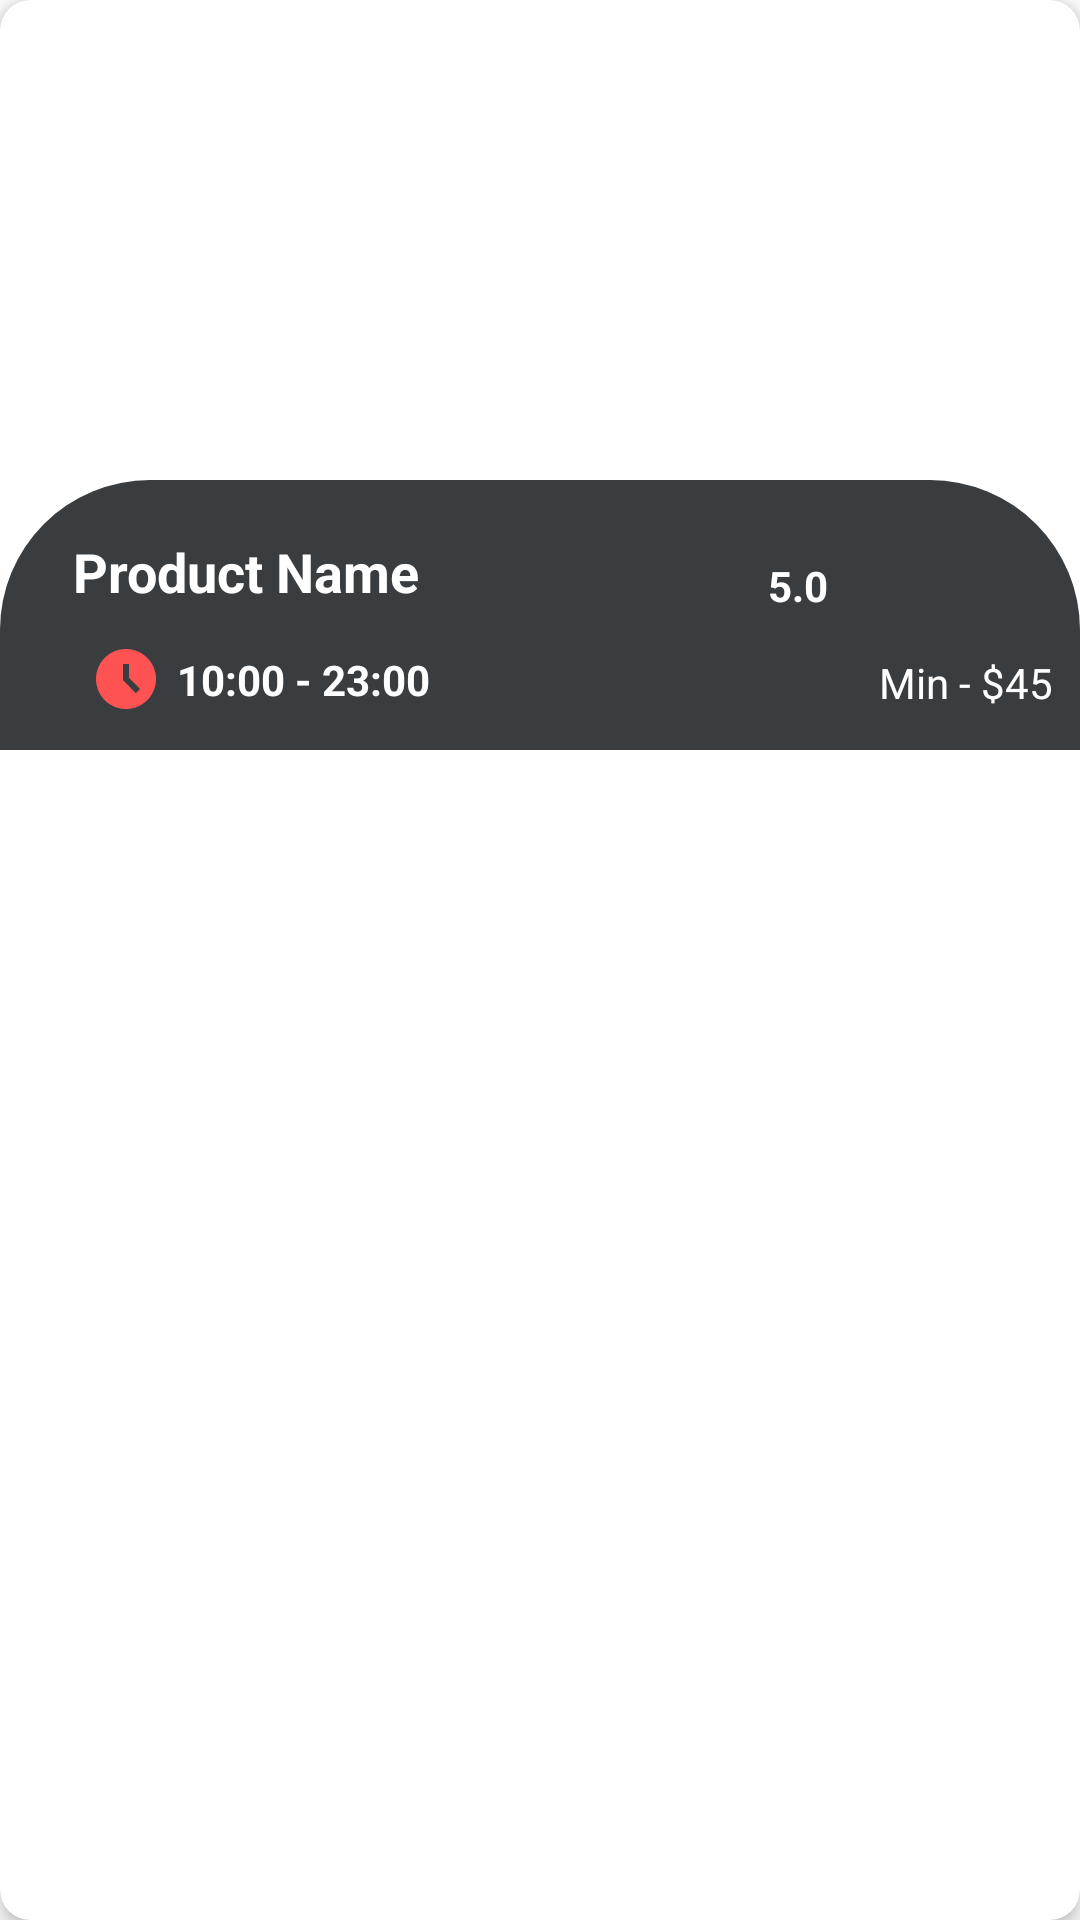

Locate icon controls on the screen. Image size 1080 x 1920, boxes as (x1, y1, x2, y2).
access time: (96, 649, 156, 709)
